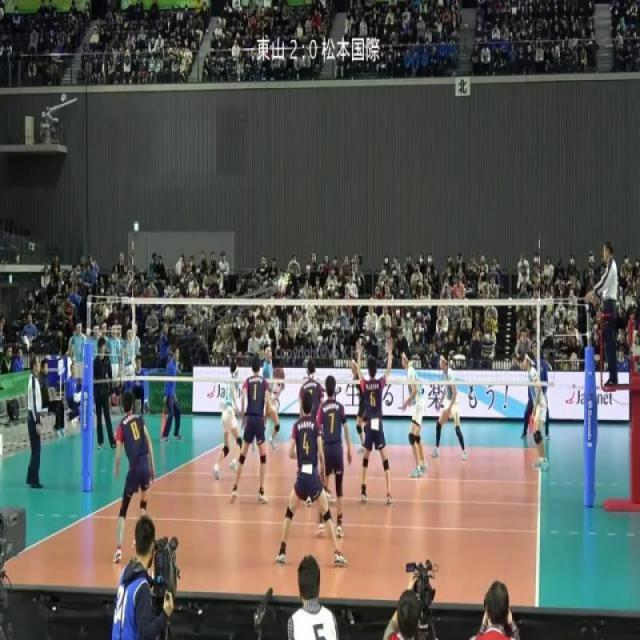volleyball: (277, 278, 287, 294)
